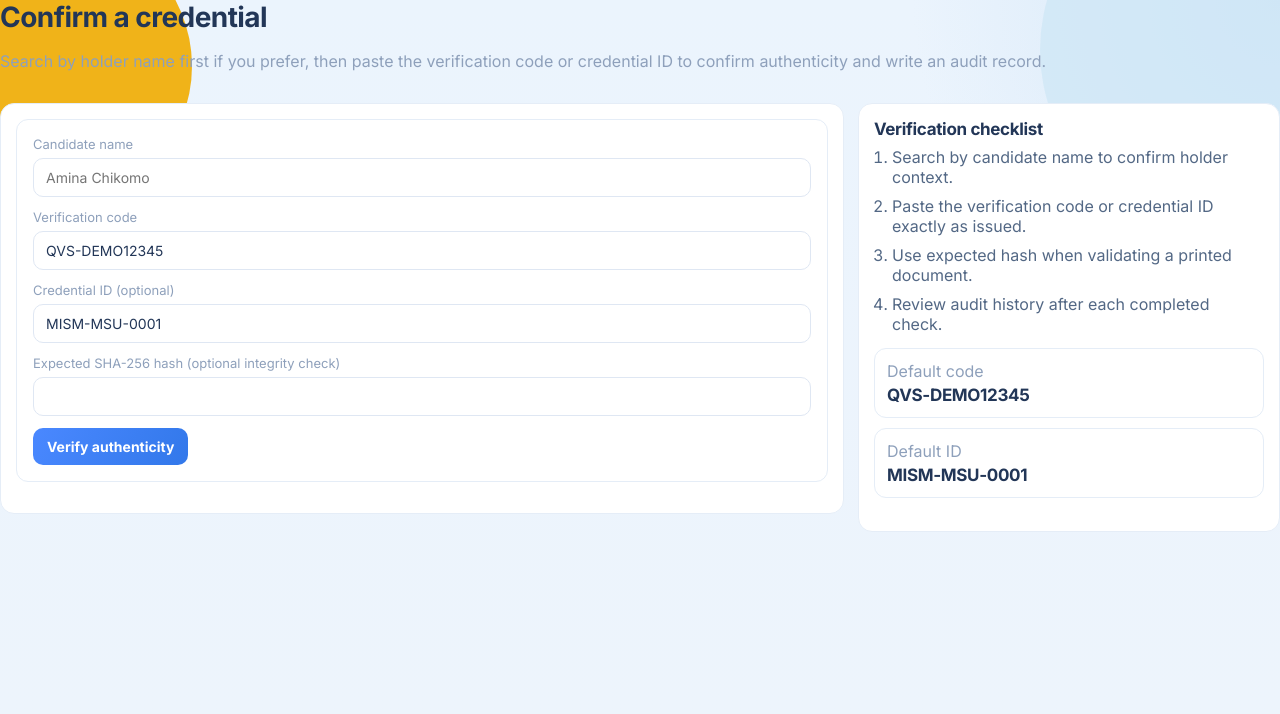
verify page posts a code and shows a valid outcome
The width and height of the screenshot is (1280, 714).
Click the button "Verify authenticity".
click(111, 446)  # box top-left (33, 428), bottom-right (188, 465)
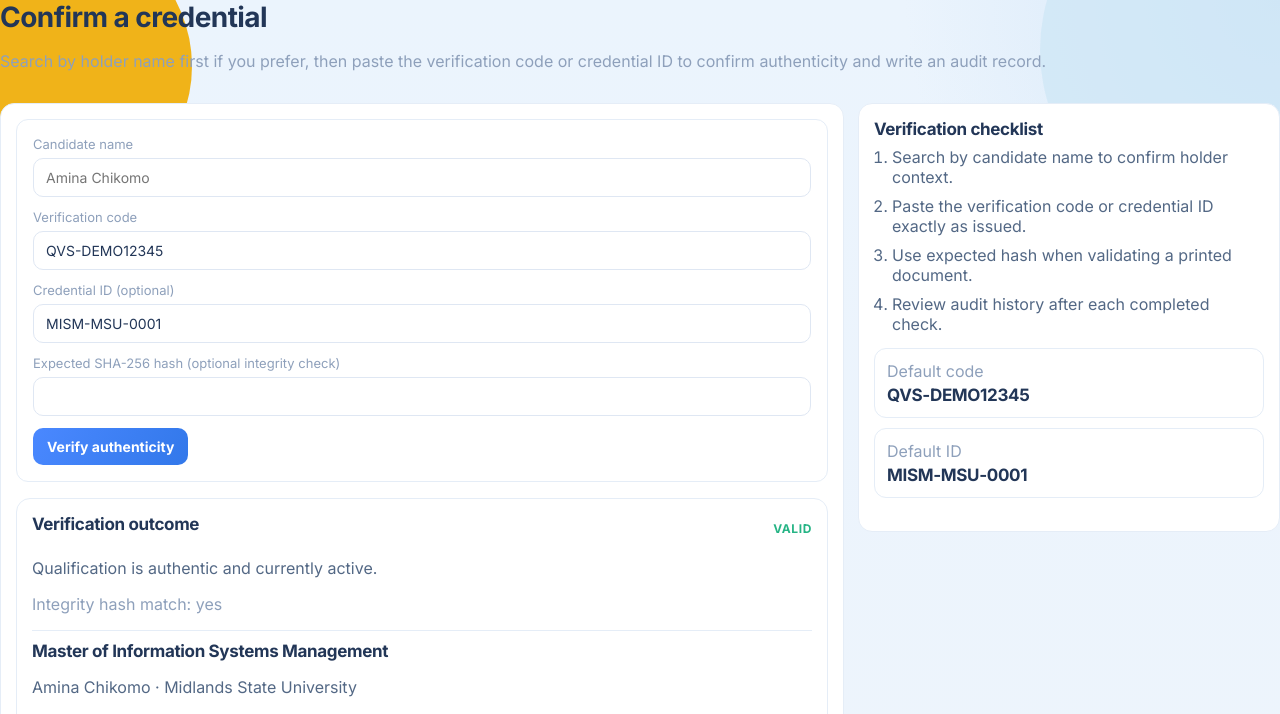
Check: the text "Qualification is authentic and currently active." is shown, box top-left (32, 558), bottom-right (377, 578)
